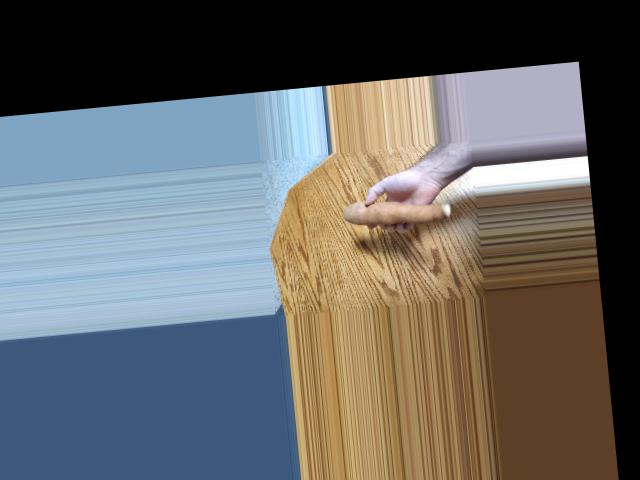sweet_potato: (342, 199, 444, 236)
